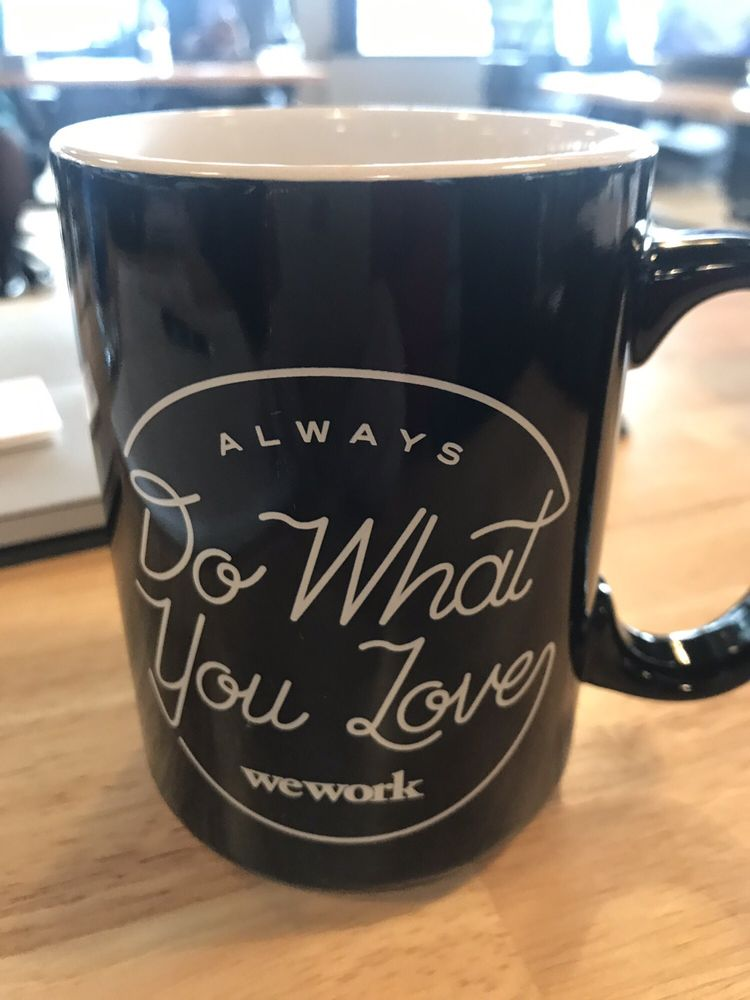wework: (231, 756, 429, 808)
